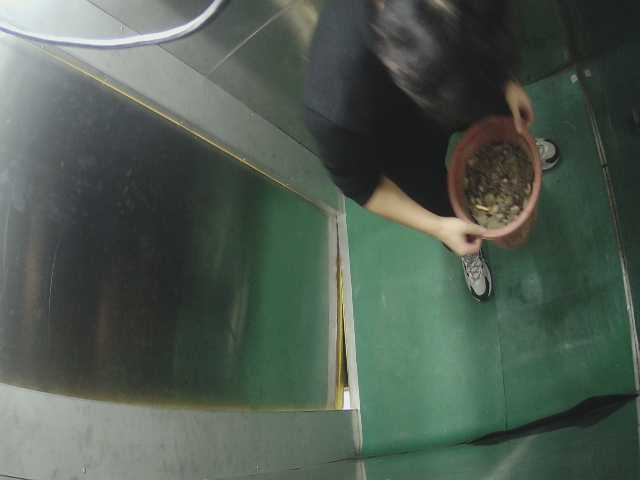flowerpot: (433, 111, 557, 257)
person: (304, 6, 552, 310)
